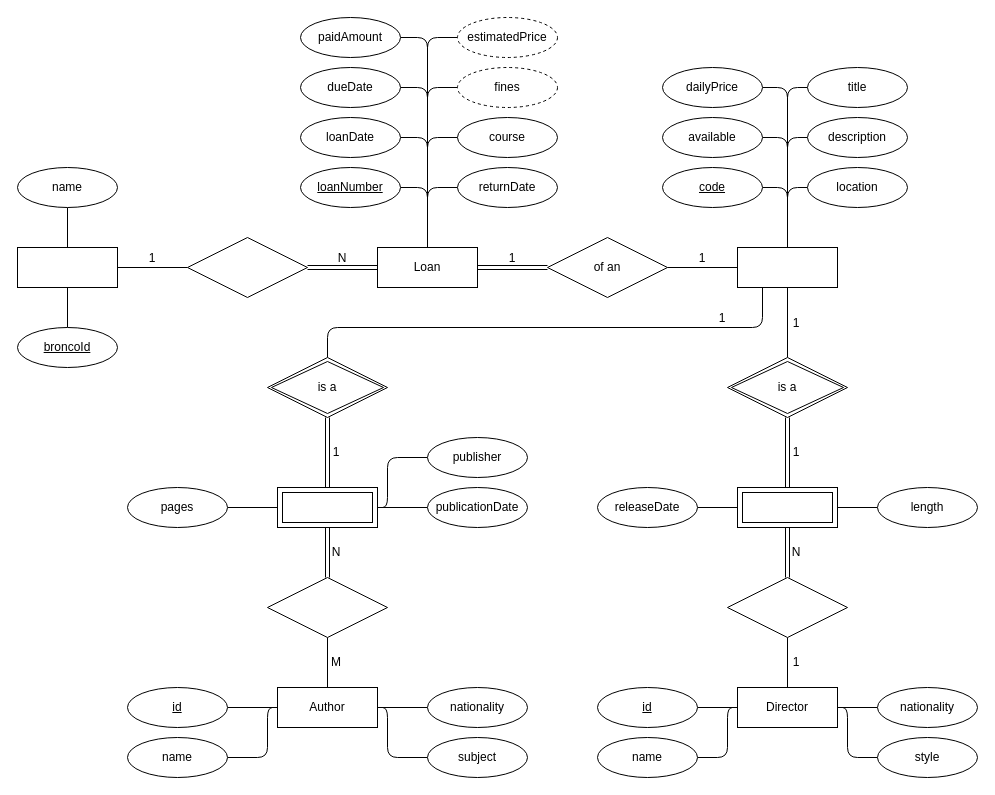
Some shapes in this 995 by 795 pixel diagram are drawn without their labels. The centre of each missing label's shape, as x and y in pixels:
Book: the point at 327,507
Film: the point at 787,507
has a: the point at 787,607
has an: the point at 327,607
Item: the point at 787,267
makes a: the point at 247,267
Student: the point at 67,267
